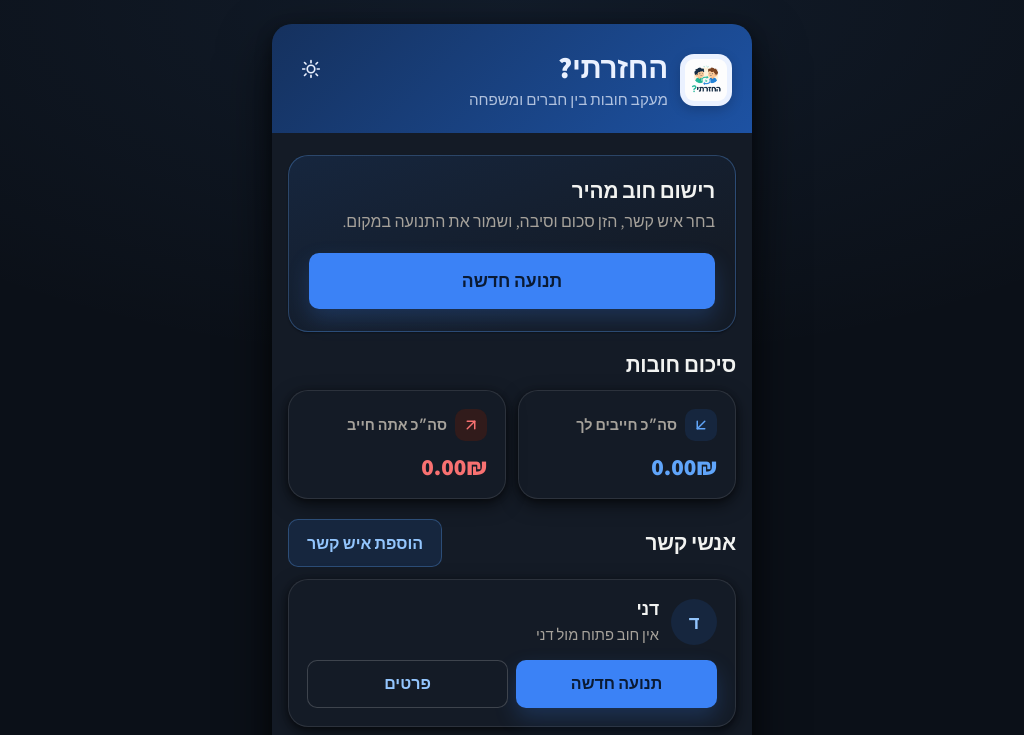
Scenario: App › updates the aggregate summary after adding a transaction
Expected: the text "סה״כ חייבים לך" is shown, [576, 415, 677, 434]
Click the button "תנועה חדשה" below "רישום חוב מהיר".
click(512, 281)  # box [309, 253, 715, 309]
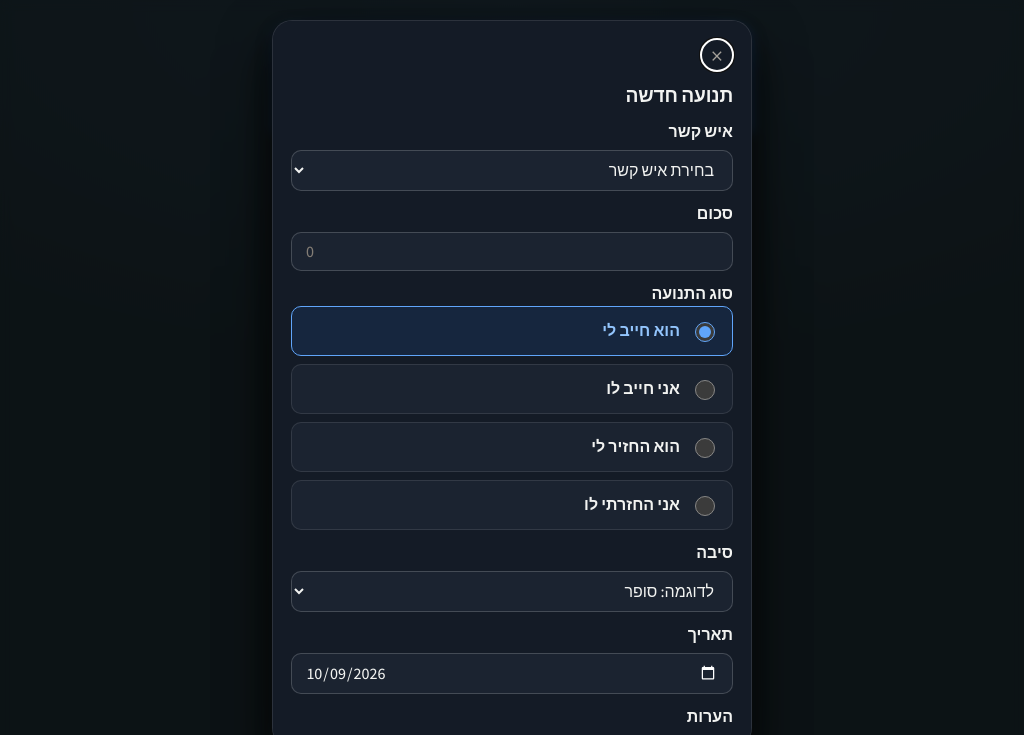
Select "דני" in the dropdown labelled "איש קשר" at (512, 170), box [291, 150, 733, 191]
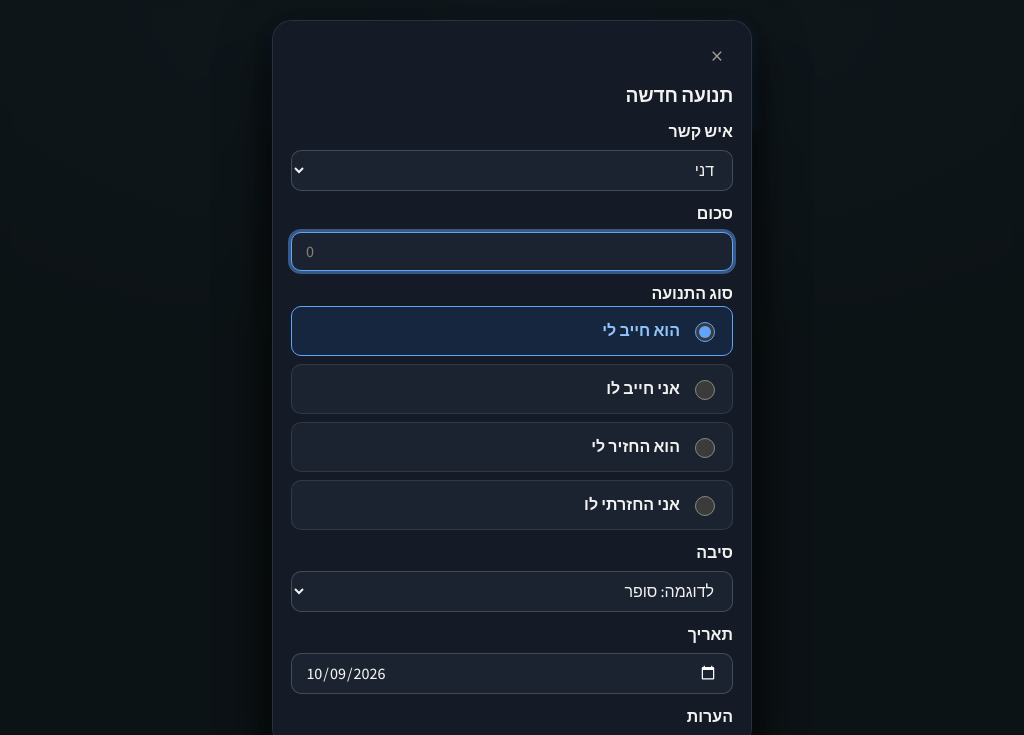
Type "42.50" into the field labelled "סכום".
click(512, 251); type("42.50")  # box [291, 232, 733, 271]
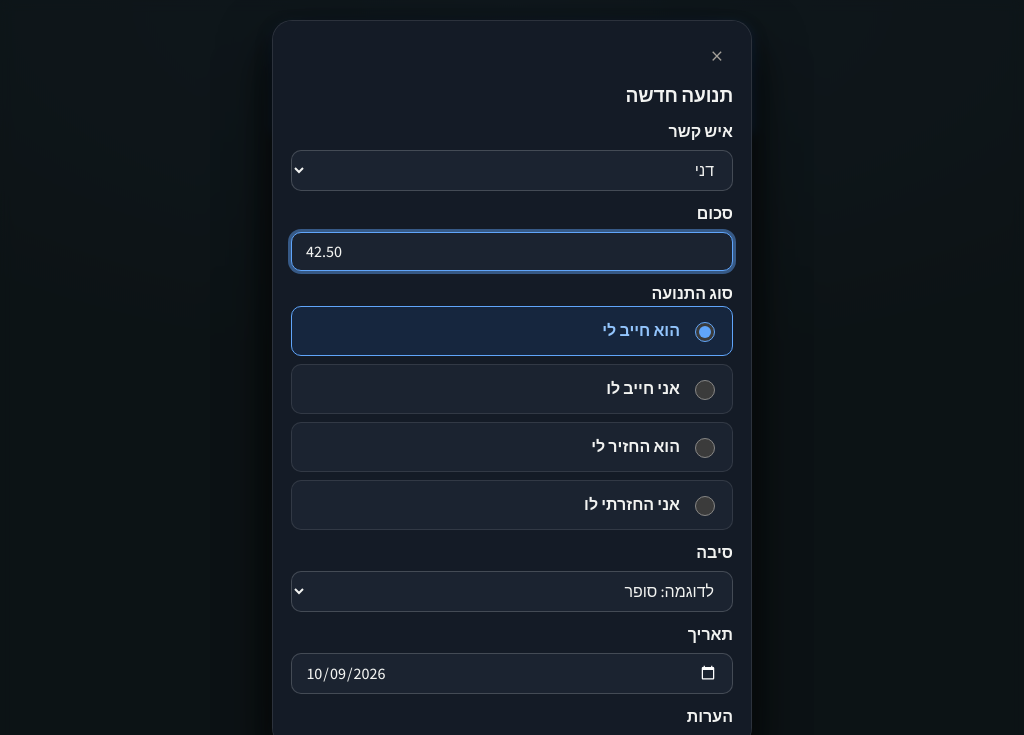
Click the radio button labelled "אני חייב לו".
click(705, 390)  # box [695, 380, 715, 400]
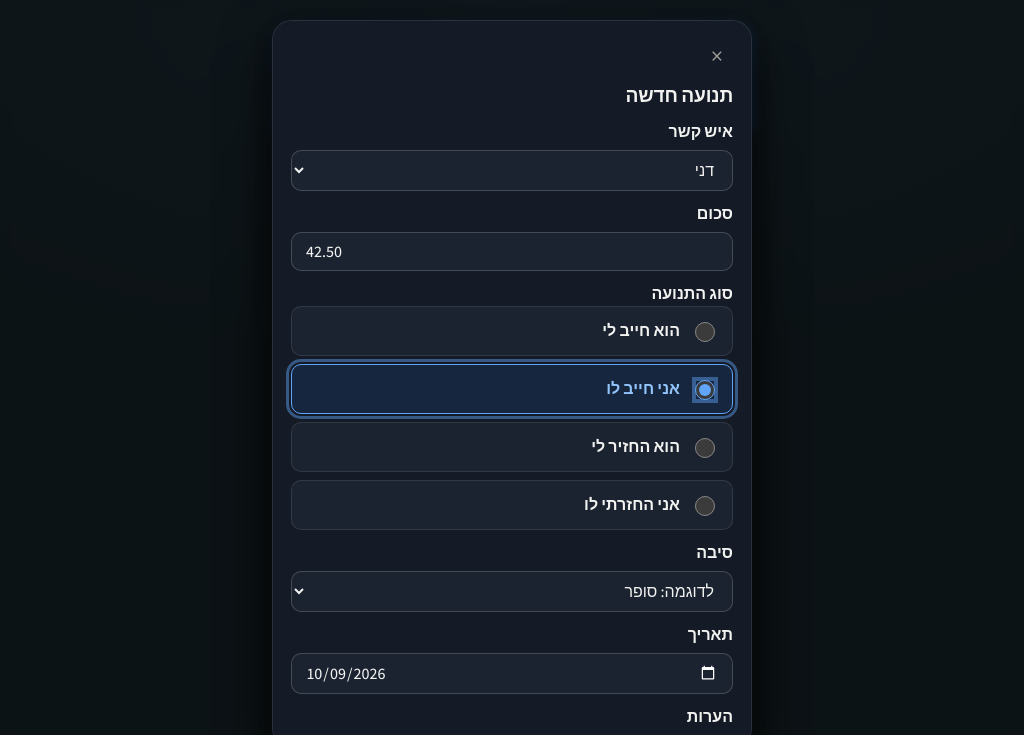
Select "נסיעה" in the dropdown labelled "סיבה" at (512, 591), box [291, 571, 733, 612]
(page scrolled)
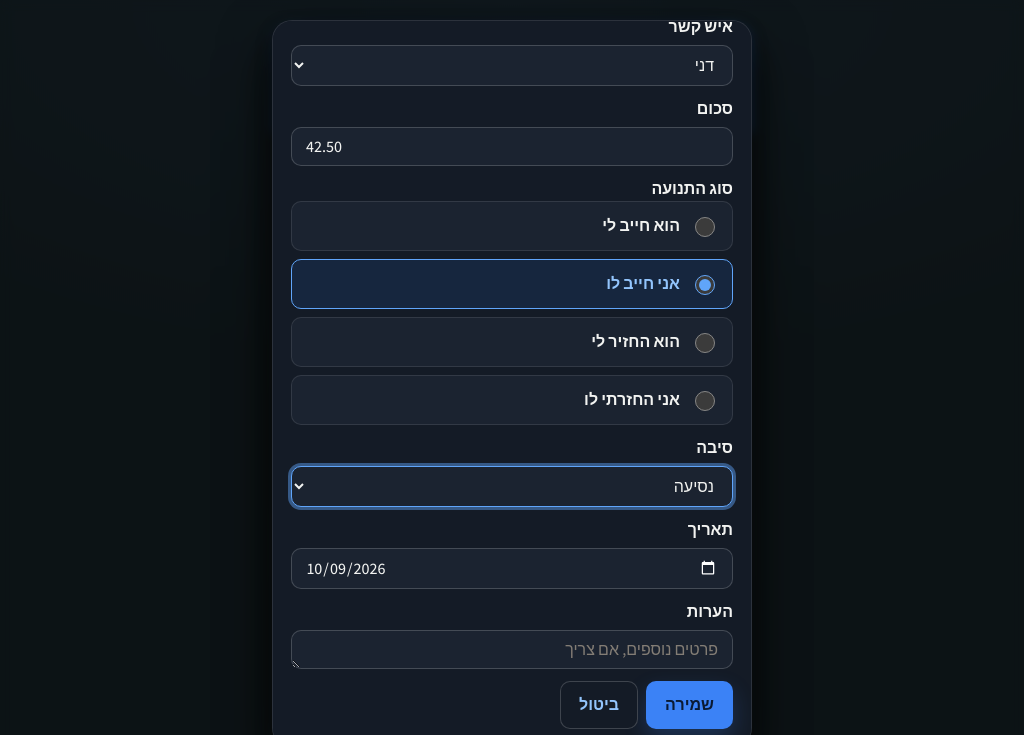
Click the button "שמירה".
click(690, 705)  # box [646, 681, 733, 729]
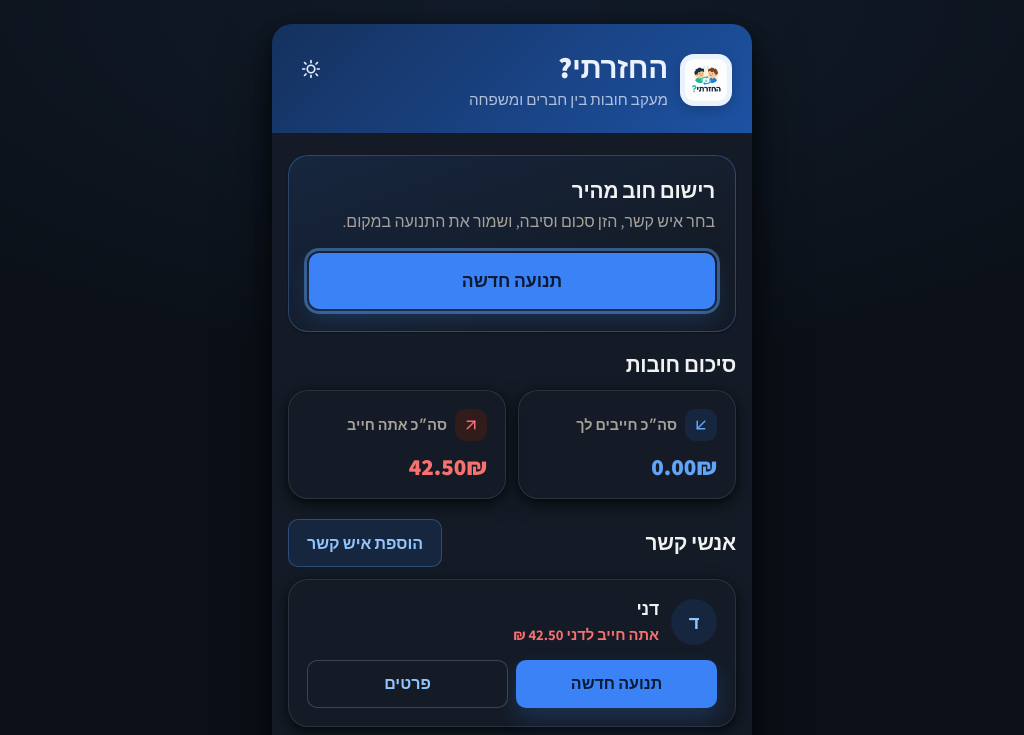
Expected: the text "42.50 ₪" is shown, [404, 451, 487, 482]
